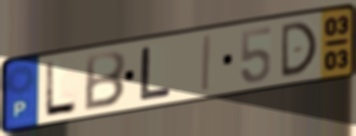5: (239, 24, 273, 85)
B: (81, 49, 128, 113)
D: (279, 19, 320, 81)
I: (200, 32, 215, 95)
L: (43, 60, 79, 119), (138, 45, 173, 103)
